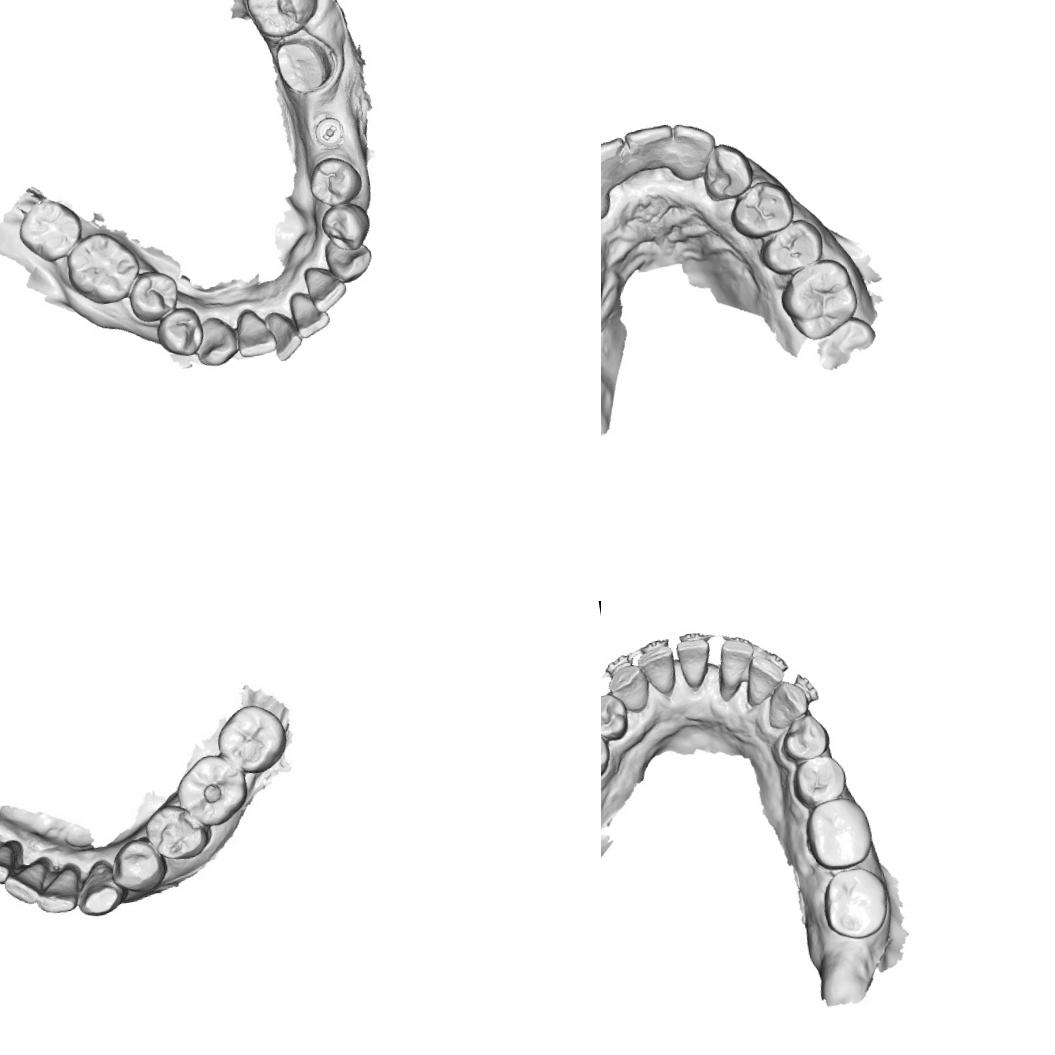canine: (696, 139, 756, 204), (71, 856, 132, 919), (321, 231, 376, 287), (190, 311, 238, 371), (760, 677, 812, 732), (604, 661, 654, 718)
crown: (269, 31, 338, 98)
implant_minus: (312, 113, 348, 151)
incisor: (662, 117, 722, 184), (622, 120, 678, 174), (300, 260, 351, 318), (740, 651, 790, 708), (232, 303, 280, 360), (714, 633, 760, 691), (32, 866, 84, 917), (634, 642, 680, 698), (673, 634, 717, 692), (286, 286, 333, 340), (262, 306, 305, 364), (1, 860, 51, 908), (601, 134, 632, 194), (0, 843, 19, 887)
molar: (774, 253, 864, 346), (61, 225, 147, 311), (170, 749, 252, 830), (211, 699, 292, 780), (818, 862, 896, 945), (801, 792, 877, 874), (12, 191, 89, 268), (238, 0, 322, 44)
premolar: (141, 798, 214, 866), (725, 176, 798, 242), (756, 215, 829, 279), (105, 834, 170, 897), (788, 752, 852, 812), (302, 152, 367, 211), (123, 266, 184, 328), (316, 199, 374, 257), (152, 302, 208, 362), (776, 710, 833, 766), (601, 689, 633, 746), (601, 724, 614, 786)
